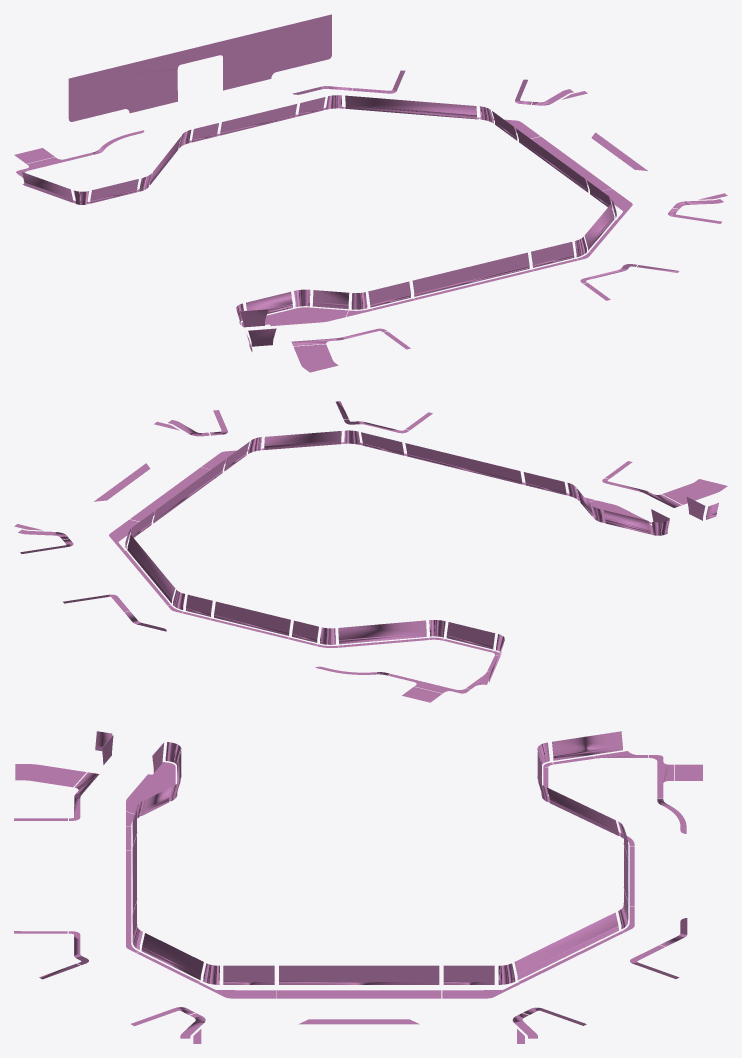
File: orison_arc_int_floor_first_001_glass_a.glb
The picture shows the model from 3 angles, top to bottom: view 1: azimuth 30°, elevation 25°; view 2: azimuth 150°, elevation 25°; view 3: azimuth 270°, elevation 25°; orthographic projection. The views are drawn at different scales.
Size of the model in its own units: 35.12 by 3.41 by 35.99.
